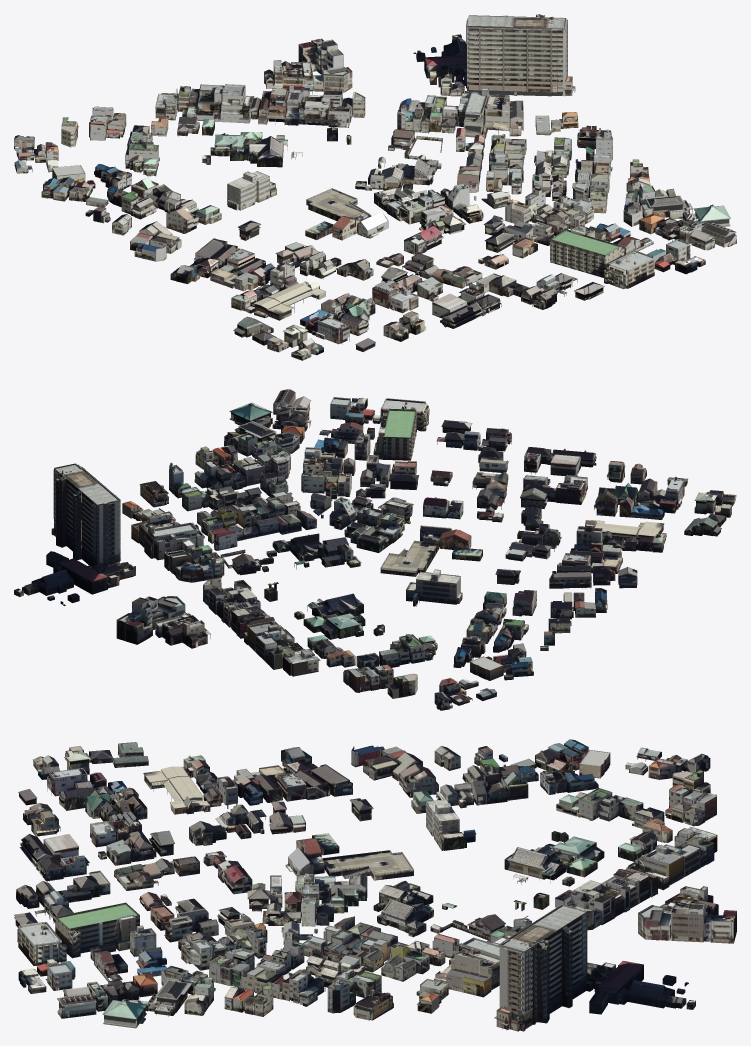
The model's file is station-4-0-packed.glb.
The picture shows the model from 3 angles, top to bottom: view 1: azimuth 30°, elevation 25°; view 2: azimuth 150°, elevation 25°; view 3: azimuth 270°, elevation 25°; orthographic projection. The views are drawn at different scales.
Bounding box in the file's own units: 334 × 47.17 × 356.
Materials: 16 (15 with a texture image).
